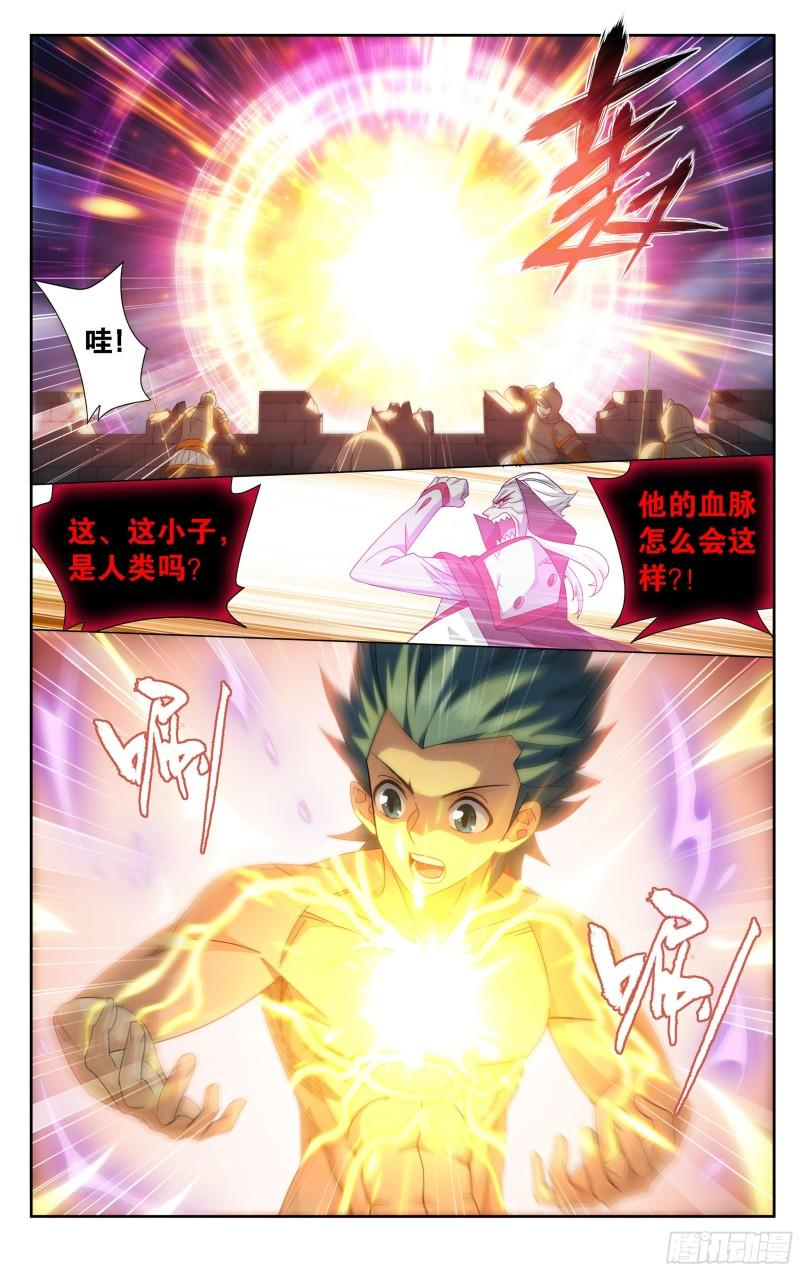boxBad: (24, 473, 264, 631), (585, 455, 783, 643)
boxBomb: (33, 257, 153, 422)
minBox: (18, 619, 780, 1222), (21, 29, 783, 491), (18, 452, 783, 664)
